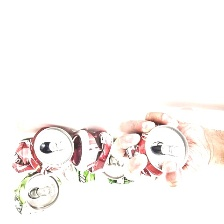can: (123, 120, 191, 179), (6, 124, 75, 181), (9, 173, 63, 218), (68, 128, 113, 173), (101, 146, 143, 189), (58, 161, 100, 187)
